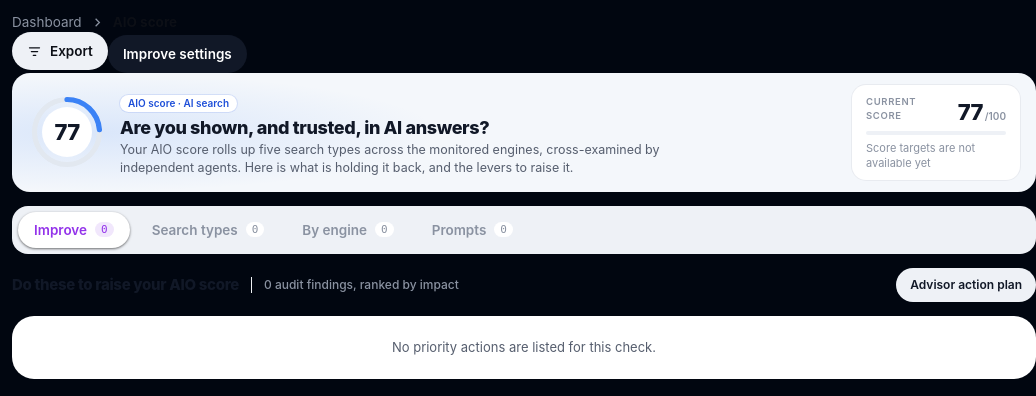
Test: ProjectAeoPage (approved AIO detail) › keeps the prompts and engines tabs honest when the visibility feeds fail
The image size is (1036, 396).
Click the tab "Prompts 0". click: (472,230)
box: [416, 212, 529, 248]
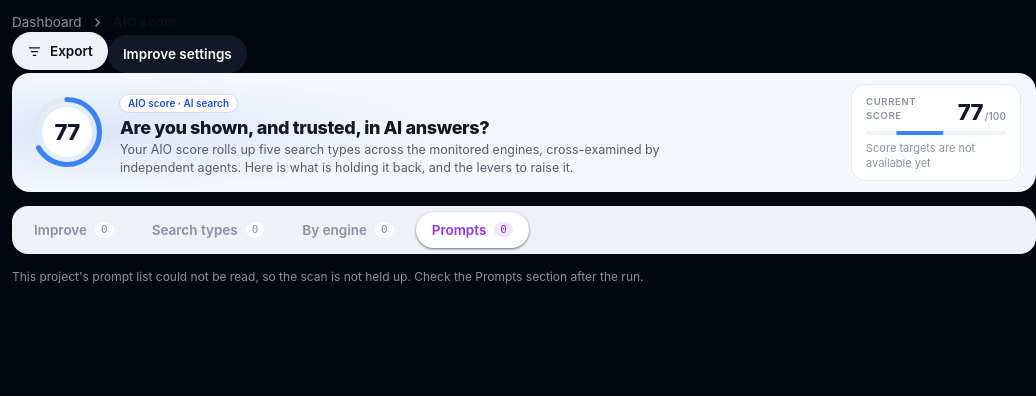
Result: the text "could not be read" is shown at [12, 269, 644, 284]
Click the tab "By engine 0". click: (348,230)
box: [286, 212, 410, 248]
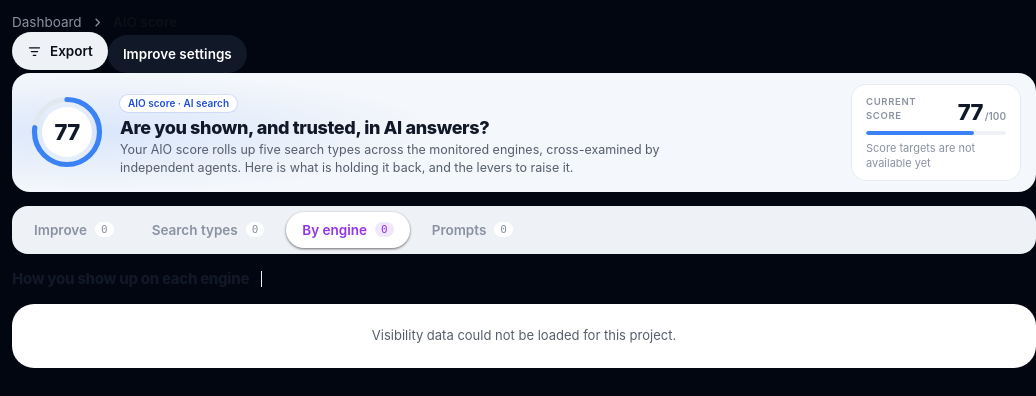
Result: the text "Visibility data could not be loaded for this project." is shown at [372, 326, 676, 346]
